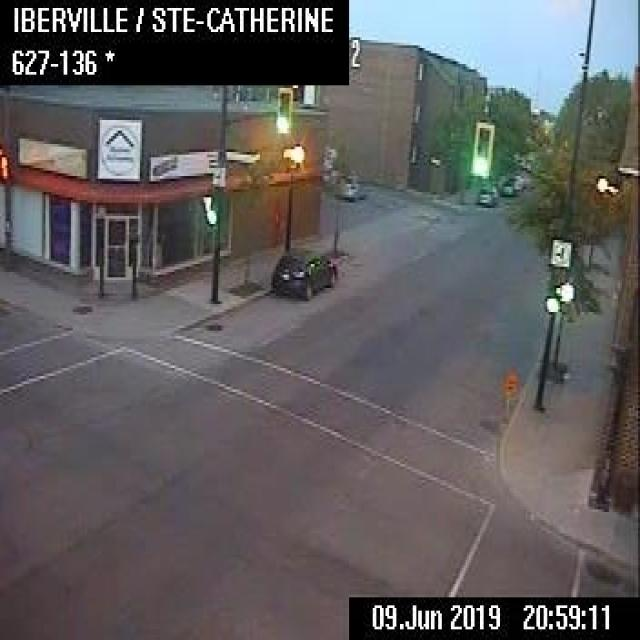construction: (498, 364, 520, 425)
vehicle: (269, 248, 336, 299), (333, 171, 365, 201), (475, 182, 495, 205), (499, 176, 513, 195), (512, 174, 524, 188)
